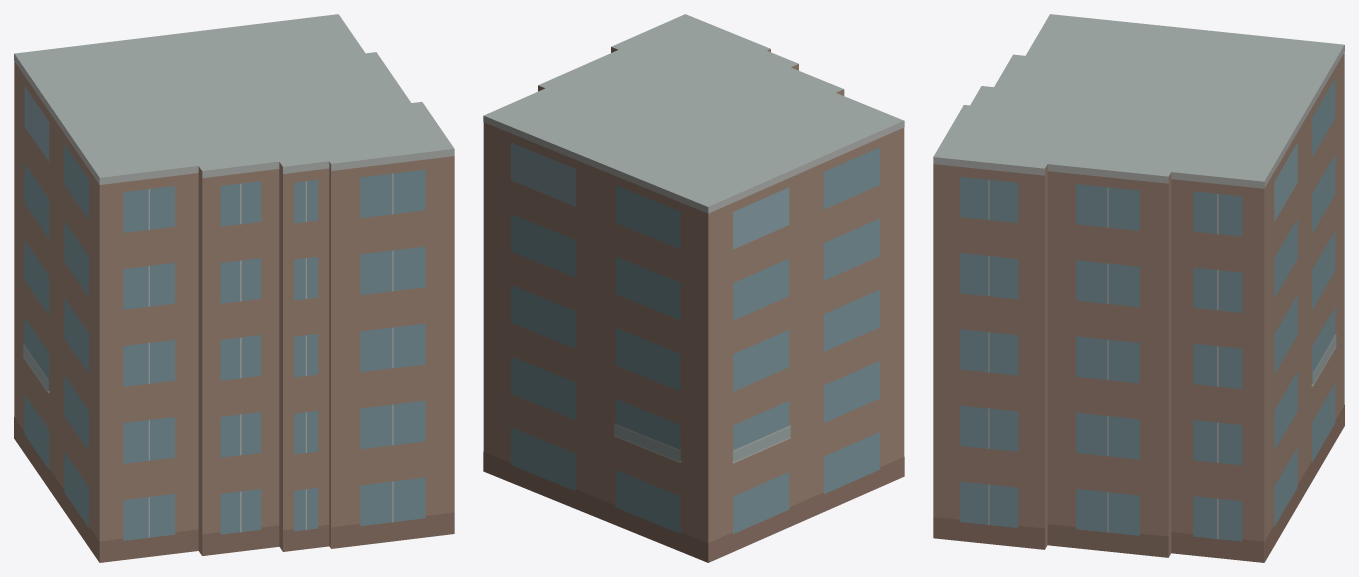
File: survey-upis-32785316.glb
3 renders of one model, left to right at view 1: azimuth 30°, elevation 25°; view 2: azimuth 150°, elevation 25°; view 3: azimuth 270°, elevation 25°, orthographic. The views are drawn at different scales.
Visible parts, largest first — view 1: survey-upis-32785316.tmp; view 2: survey-upis-32785316.tmp; view 3: survey-upis-32785316.tmp.
Boxes of the visible parts, x1,y1,x2,y2 form: survey-upis-32785316.tmp: [14, 14, 454, 562]; survey-upis-32785316.tmp: [483, 14, 904, 562]; survey-upis-32785316.tmp: [933, 14, 1344, 562].
Size of the model in its own units: 12.47 by 13.2 by 12.93.
